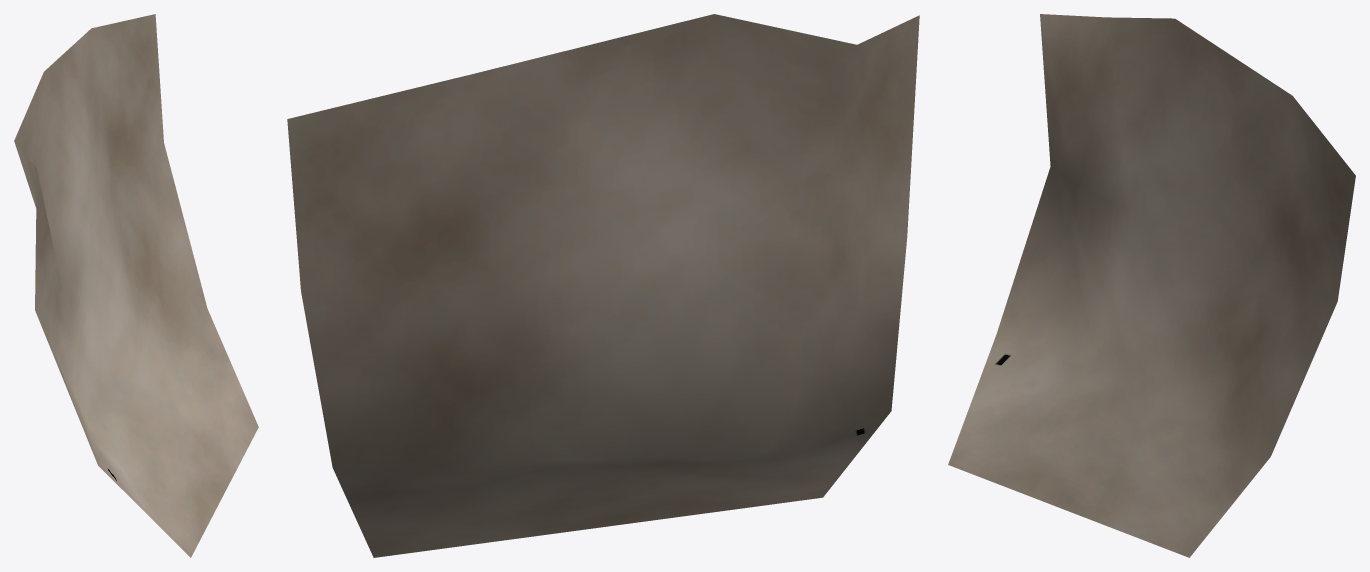
Rendered from web_04.fbx.
The picture shows the model from 3 angles, left to right: view 1: azimuth 30°, elevation 25°; view 2: azimuth 150°, elevation 25°; view 3: azimuth 270°, elevation 25°; orthographic projection. The views are drawn at different scales.
Parts seen in each view (by area): view 1: mine_tileset/mine_web04_mat; view 2: mine_tileset/mine_web04_mat; view 3: mine_tileset/mine_web04_mat.
Boxes of the visible parts, left/top/right/bottom form: mine_tileset/mine_web04_mat: left=14, top=14, right=258, bottom=557; mine_tileset/mine_web04_mat: left=287, top=14, right=919, bottom=557; mine_tileset/mine_web04_mat: left=948, top=14, right=1355, bottom=557.
Size of the model in its own units: 4.99 by 6.71 by 5.8.
